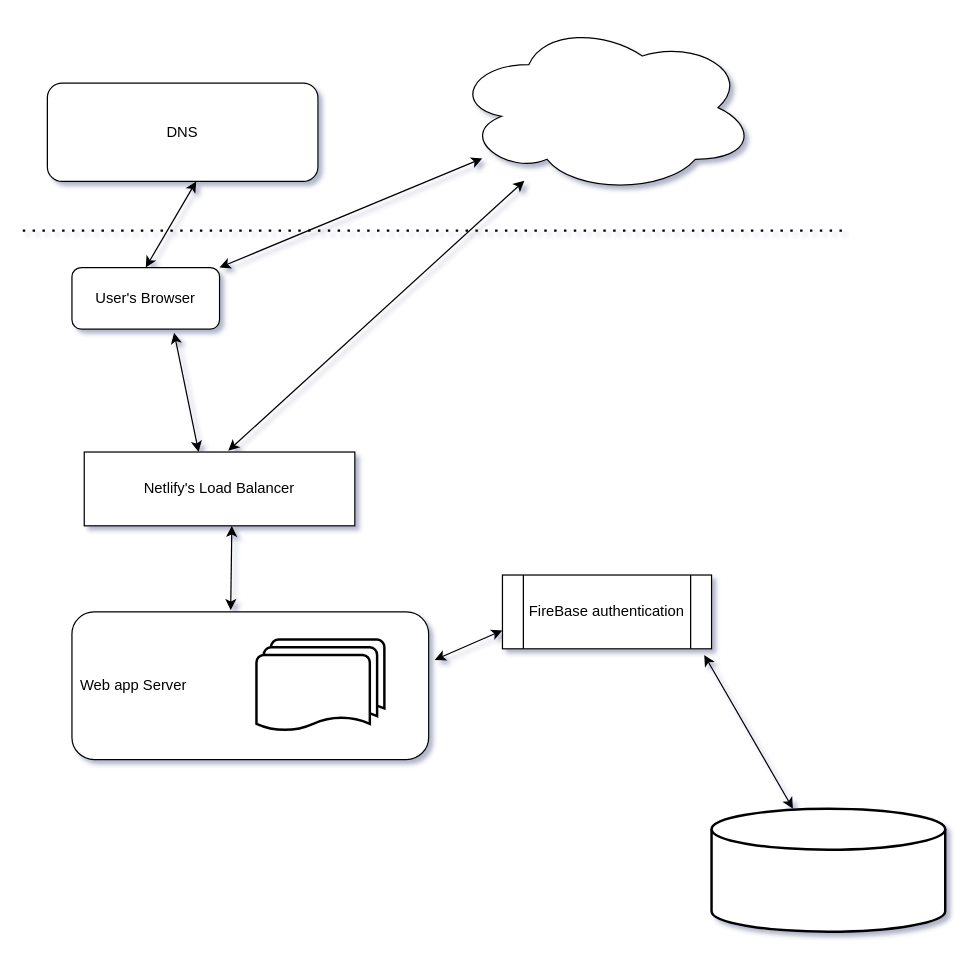
Image size: 974x962. Some labels were removed from this diagram. The shapes that lost their labels are listed below. From the top down, each one's centre as x and y in pixels, then its label:
the point at 604,107: Netlify's Content Delivery Network (CDN)
the point at 320,685: Code Base
the point at 828,869: SupaBase database
